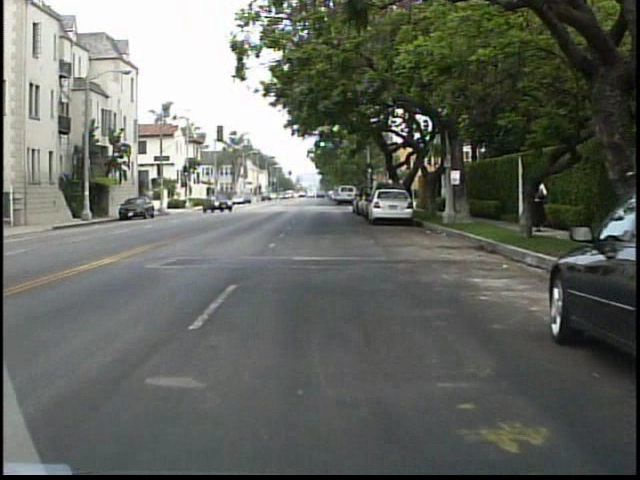person: (520, 170, 551, 239)
